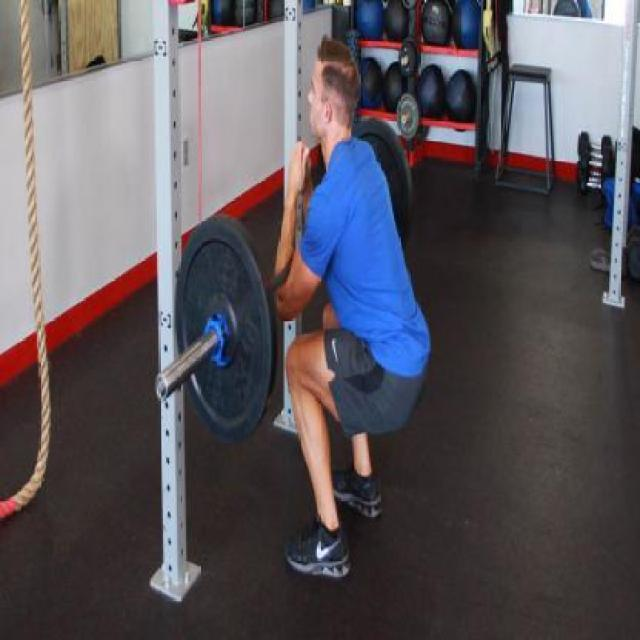barbell: (156, 218, 271, 444)
